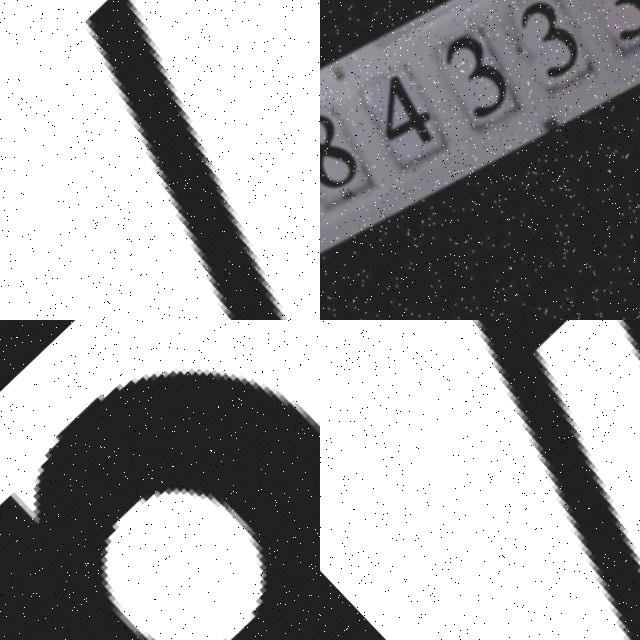3: (408, 2, 536, 134), (483, 0, 609, 94), (558, 0, 640, 55)
4: (338, 45, 462, 173)
8: (320, 82, 385, 215)
B: (482, 320, 640, 640)
I: (0, 0, 320, 320)
P: (0, 363, 320, 640)
